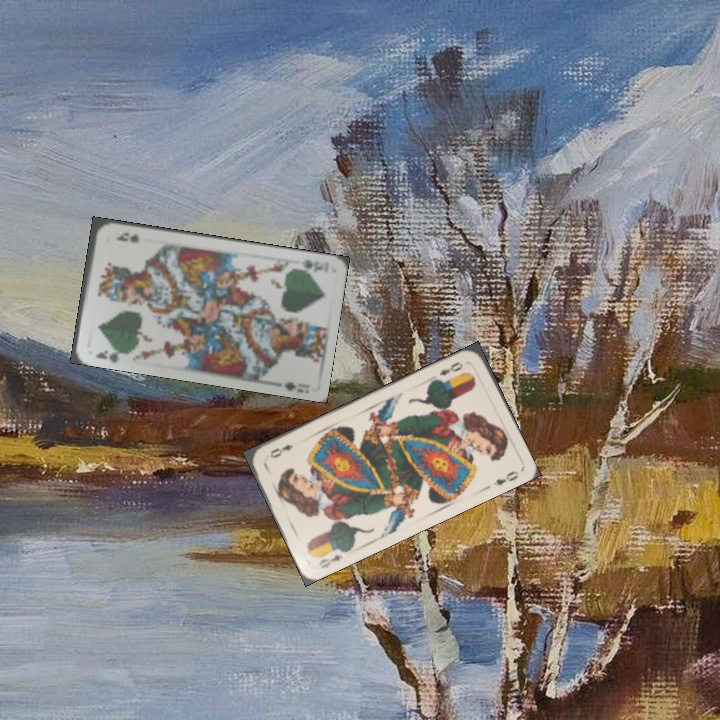EO: (315, 550, 345, 571), (435, 358, 465, 378)
GK: (92, 345, 122, 365), (297, 255, 325, 274)
